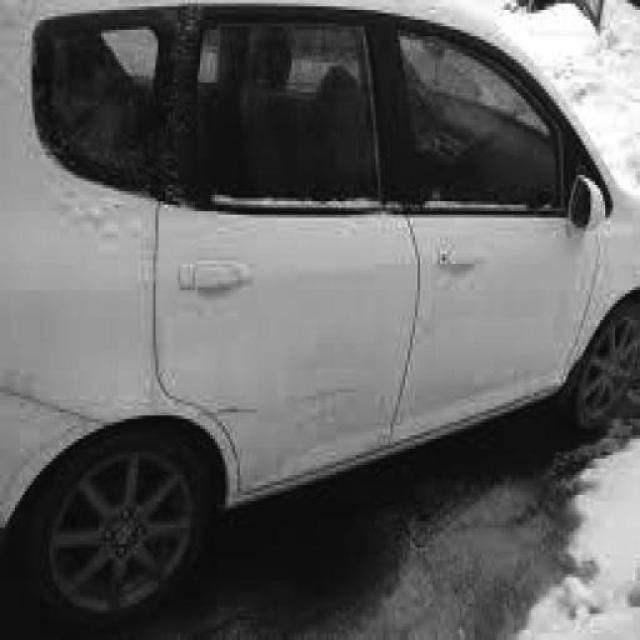car damage: (189, 383, 365, 422)
